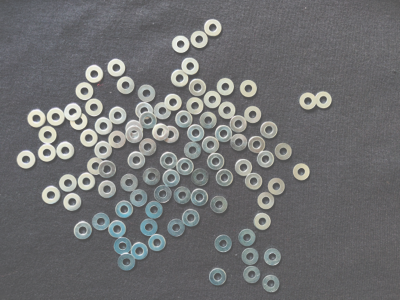circle: (208, 267, 228, 288), (41, 186, 61, 205), (17, 150, 36, 170), (27, 109, 46, 129), (63, 193, 82, 213), (262, 275, 281, 295), (240, 79, 259, 99), (256, 192, 276, 211), (293, 162, 312, 182), (315, 90, 334, 110), (59, 174, 78, 193), (116, 76, 135, 95), (215, 234, 234, 253), (264, 248, 283, 267), (244, 173, 263, 192), (274, 143, 293, 162), (74, 221, 92, 241), (113, 237, 131, 257), (170, 69, 190, 87), (38, 144, 56, 163), (47, 107, 65, 126), (57, 142, 75, 161), (70, 113, 88, 132), (64, 102, 82, 121), (85, 98, 103, 117), (86, 65, 104, 84), (130, 189, 148, 208), (154, 101, 172, 120), (204, 18, 222, 37), (189, 78, 207, 97), (191, 168, 209, 187), (217, 77, 235, 96), (216, 169, 234, 188), (211, 196, 229, 215), (243, 266, 261, 285), (235, 158, 253, 177), (37, 127, 57, 144), (87, 157, 105, 175), (95, 117, 113, 135), (99, 181, 117, 199), (92, 214, 110, 232), (108, 59, 126, 77), (126, 125, 144, 143), (120, 174, 138, 192), (117, 254, 135, 272), (146, 201, 164, 219), (143, 168, 161, 186), (139, 139, 157, 157), (172, 35, 190, 53), (191, 31, 209, 49), (162, 126, 180, 144), (148, 234, 166, 252), (182, 209, 200, 227), (191, 189, 209, 207), (187, 124, 205, 142), (242, 248, 260, 266), (238, 229, 256, 247), (215, 125, 233, 143), (230, 115, 248, 133), (257, 150, 275, 168), (261, 122, 279, 140), (299, 93, 317, 111), (253, 214, 272, 231), (76, 83, 95, 100), (80, 130, 99, 147), (78, 173, 95, 192), (95, 141, 112, 160), (109, 131, 126, 150), (168, 219, 185, 238), (204, 90, 221, 109), (219, 101, 236, 120), (267, 179, 286, 196), (126, 121, 144, 138), (138, 85, 156, 102), (131, 243, 148, 261), (140, 219, 158, 236), (165, 94, 182, 112), (182, 58, 200, 75), (154, 186, 172, 203), (163, 171, 181, 188), (160, 152, 177, 170), (177, 158, 194, 176), (186, 98, 204, 115), (174, 186, 190, 205), (203, 136, 219, 155), (244, 107, 263, 123), (109, 108, 126, 125), (99, 161, 116, 178), (116, 202, 133, 219), (109, 221, 126, 238), (152, 124, 169, 141), (176, 111, 193, 128), (200, 112, 217, 129), (230, 135, 247, 152), (135, 103, 153, 119), (208, 153, 224, 171), (140, 113, 157, 129), (128, 153, 145, 169), (185, 142, 201, 159), (249, 137, 266, 153)
